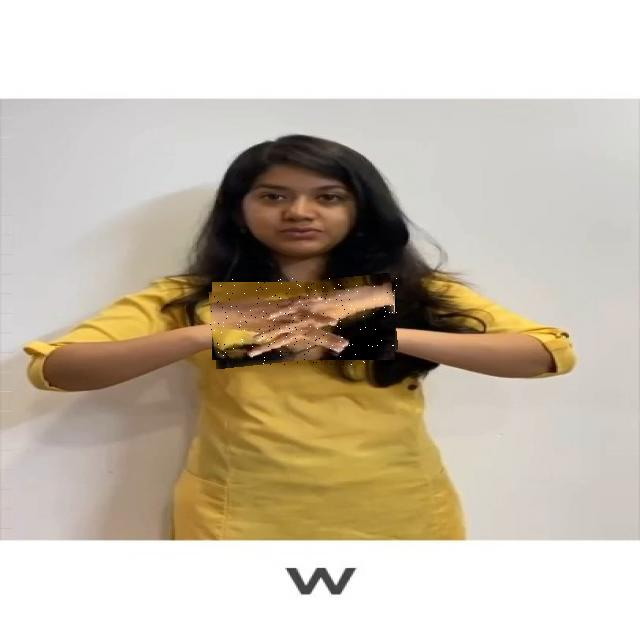W: (210, 278, 397, 365)
